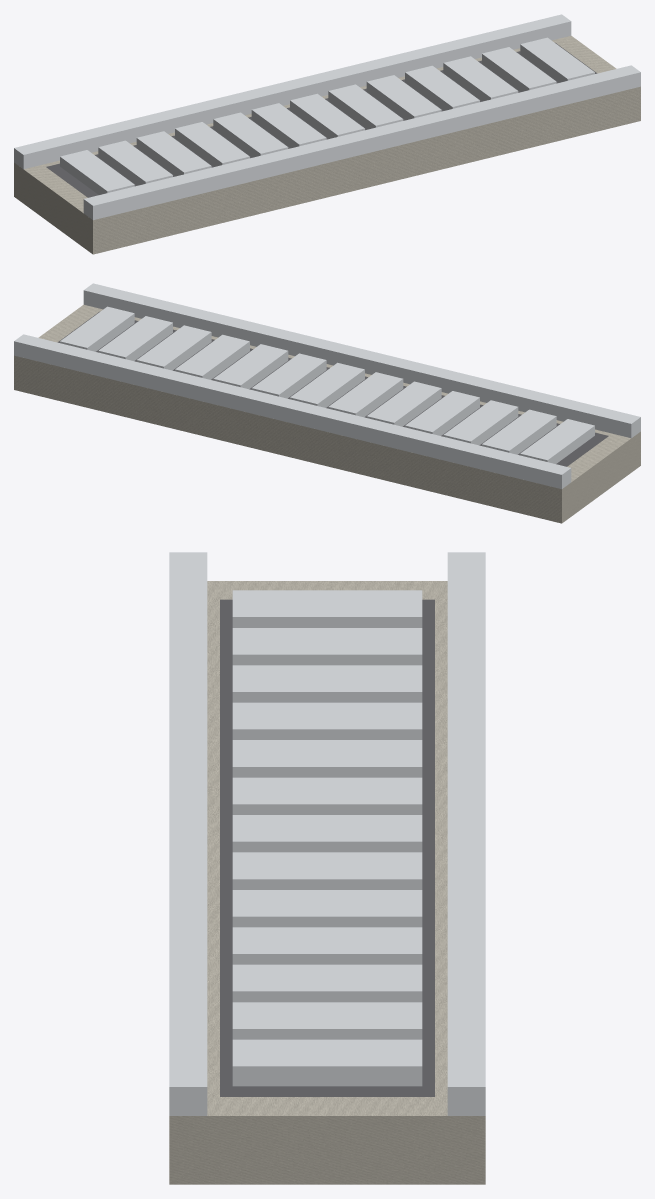
Rendered from cellar-floor-drain.glb.
3 views of the same model, one above another, from view 1: azimuth 30°, elevation 25°; view 2: azimuth 150°, elevation 25°; view 3: azimuth 270°, elevation 25° (orthographic). The views are drawn at different scales.
Visible parts, largest first — view 1: cellar-floor-drain-steel, cellar-floor-drain-stone, cellar-floor-drain-dark; view 2: cellar-floor-drain-steel, cellar-floor-drain-stone, cellar-floor-drain-dark; view 3: cellar-floor-drain-steel, cellar-floor-drain-stone, cellar-floor-drain-dark.
Boxes of the visible parts, box(x1,y1,x2,y2) form: cellar-floor-drain-steel: box(14, 14, 640, 220); cellar-floor-drain-stone: box(14, 35, 640, 254); cellar-floor-drain-dark: box(46, 42, 597, 197); cellar-floor-drain-steel: box(14, 283, 640, 489); cellar-floor-drain-stone: box(14, 304, 640, 523); cellar-floor-drain-dark: box(57, 311, 608, 466); cellar-floor-drain-steel: box(169, 552, 485, 1115); cellar-floor-drain-stone: box(169, 581, 485, 1184); cellar-floor-drain-dark: box(220, 599, 434, 1096).
Bounding box in the file's own units: 2 × 0.17 × 0.5001.
3 materials, 1 textured.
